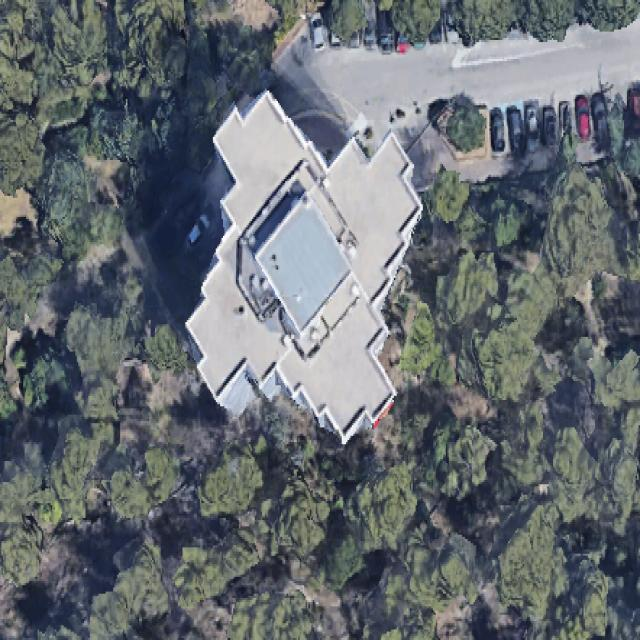immeuble: (172, 84, 434, 448)
